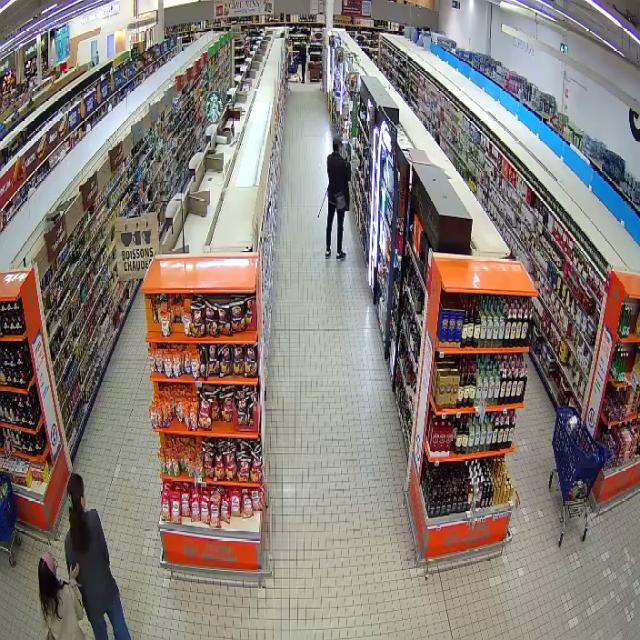bags: (335, 192, 346, 211)
hands: (69, 564, 80, 580)
person: (65, 473, 130, 639), (39, 551, 85, 639), (325, 139, 350, 259)
